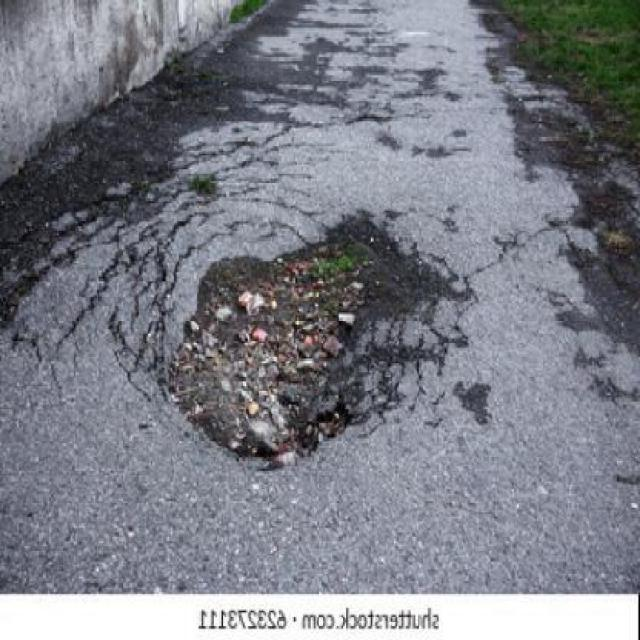pothole: (168, 215, 393, 469)
